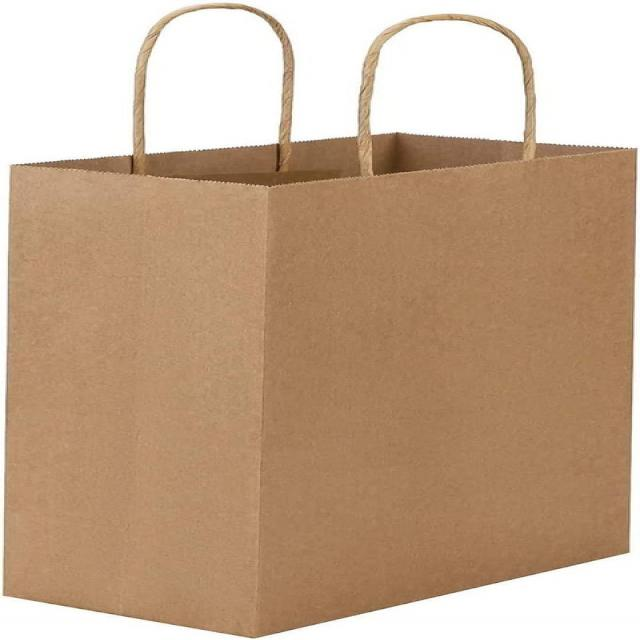paper bag: (4, 1, 640, 640)
